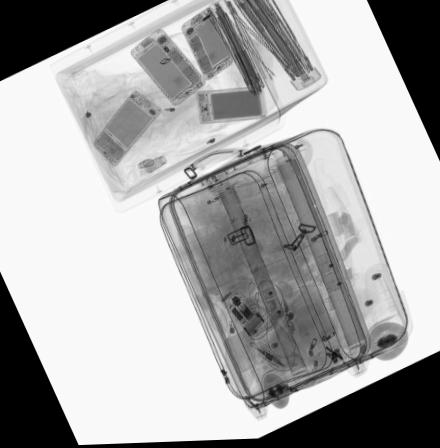Powerbank: (196, 87, 266, 128)
